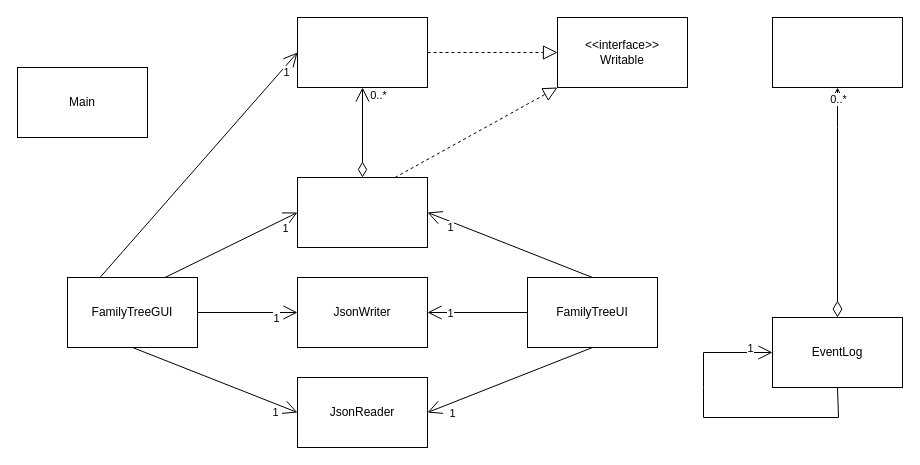
The diagram is 920 pixels wide and 465 high, and some of its shapes have lost their labels. Here are the shapes that lost their labels. From the top down, the box of each, then its label:
(296, 16, 428, 88): FamilyMember
(772, 16, 902, 88): Event
(296, 176, 428, 248): FamilyTree
